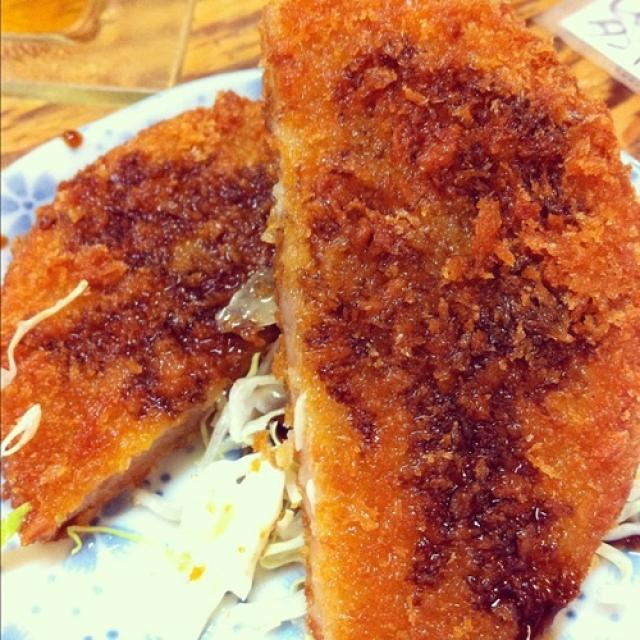炸货点心: (11, 18, 634, 621)
